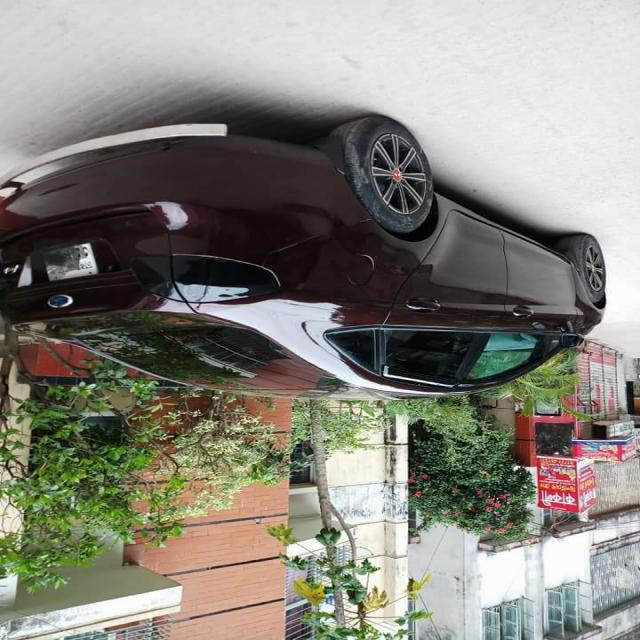maroon: (0, 128, 615, 417)
